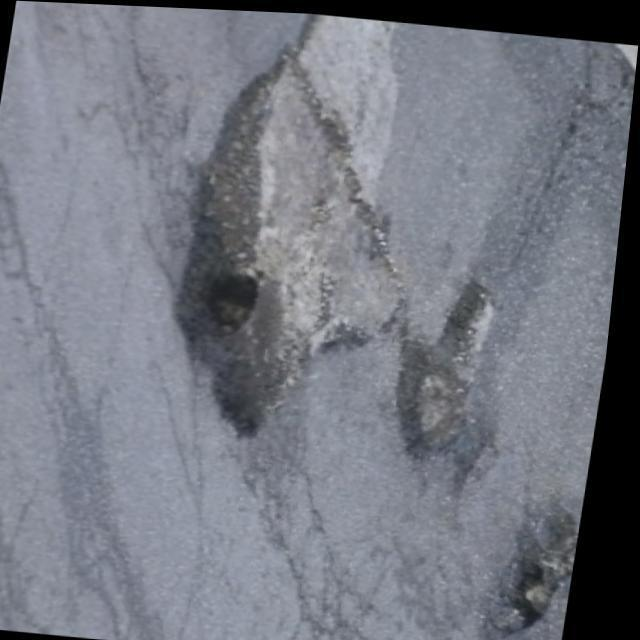Pothole: (171, 17, 405, 438), (393, 281, 498, 478), (474, 501, 579, 640)
